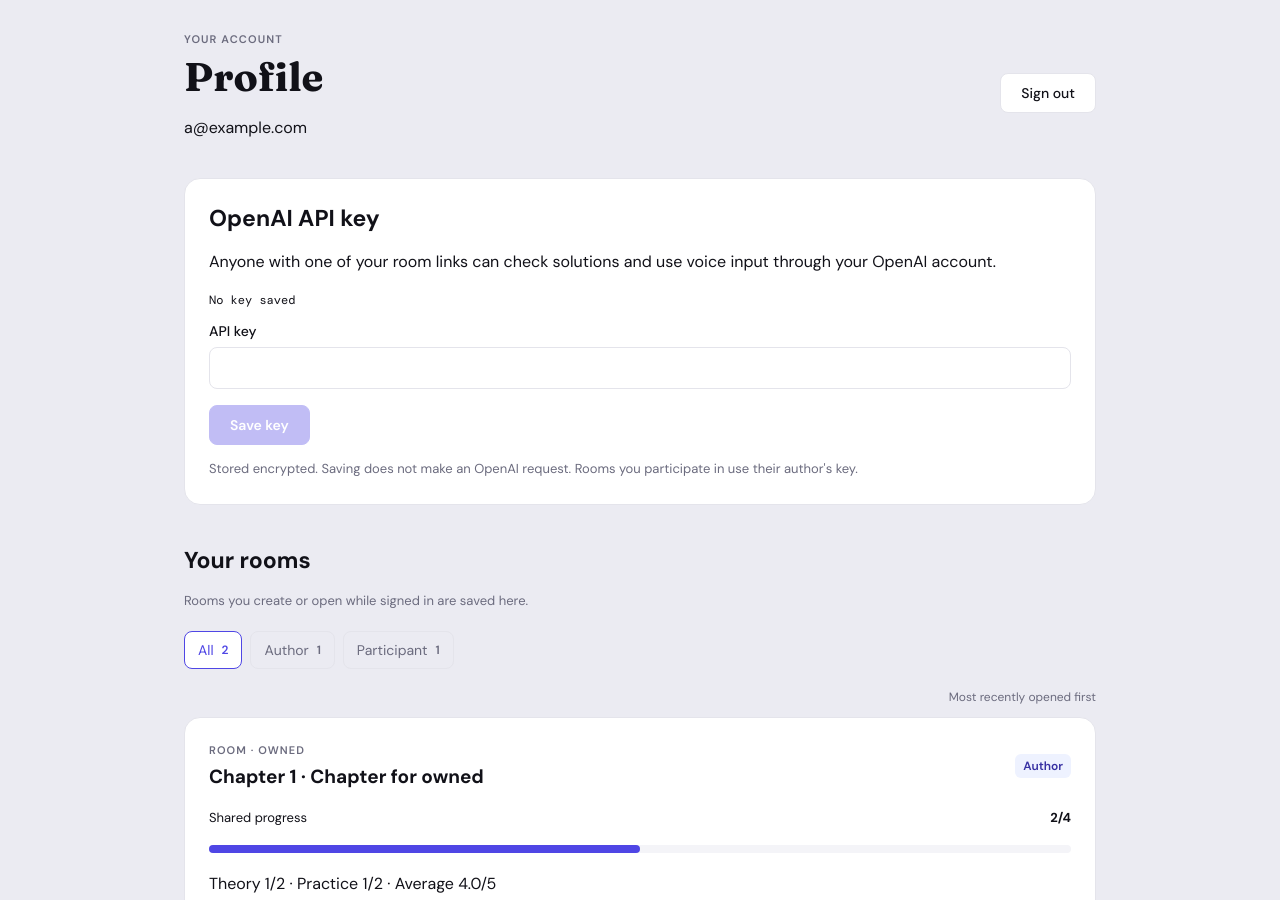
Test case: filters All, Author and Participant, showing deletion only for the author
The image size is (1280, 900).
Click the button "Participant 1": (398, 650) [343,631,454,669]
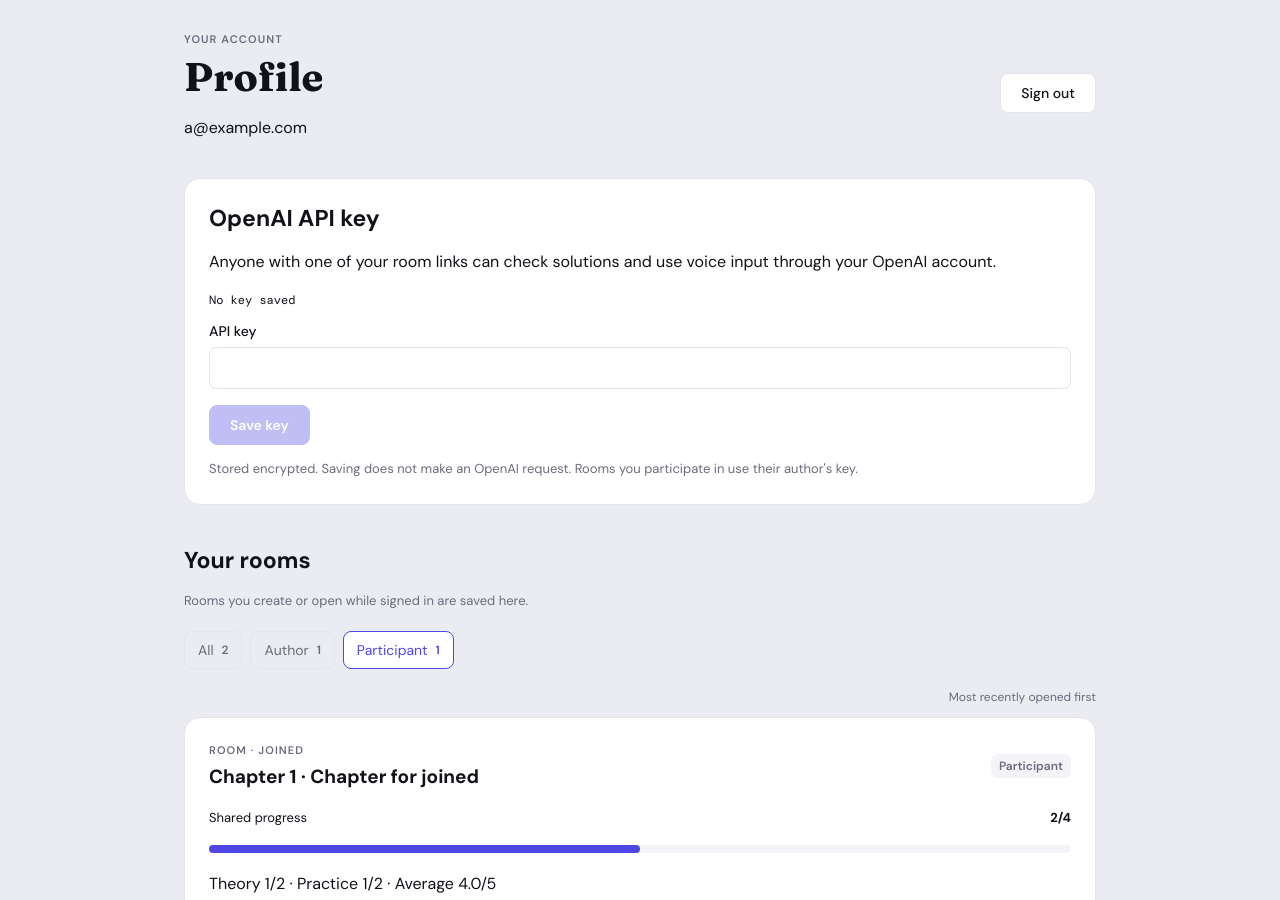
Expected: the heading "Chapter 1 · Chapter for joined" is shown, [209,764,479,789]
Expected: the heading "Chapter 1 · Chapter for owned" is gone
Click the button "Author 1": (293, 650) [250,631,335,669]
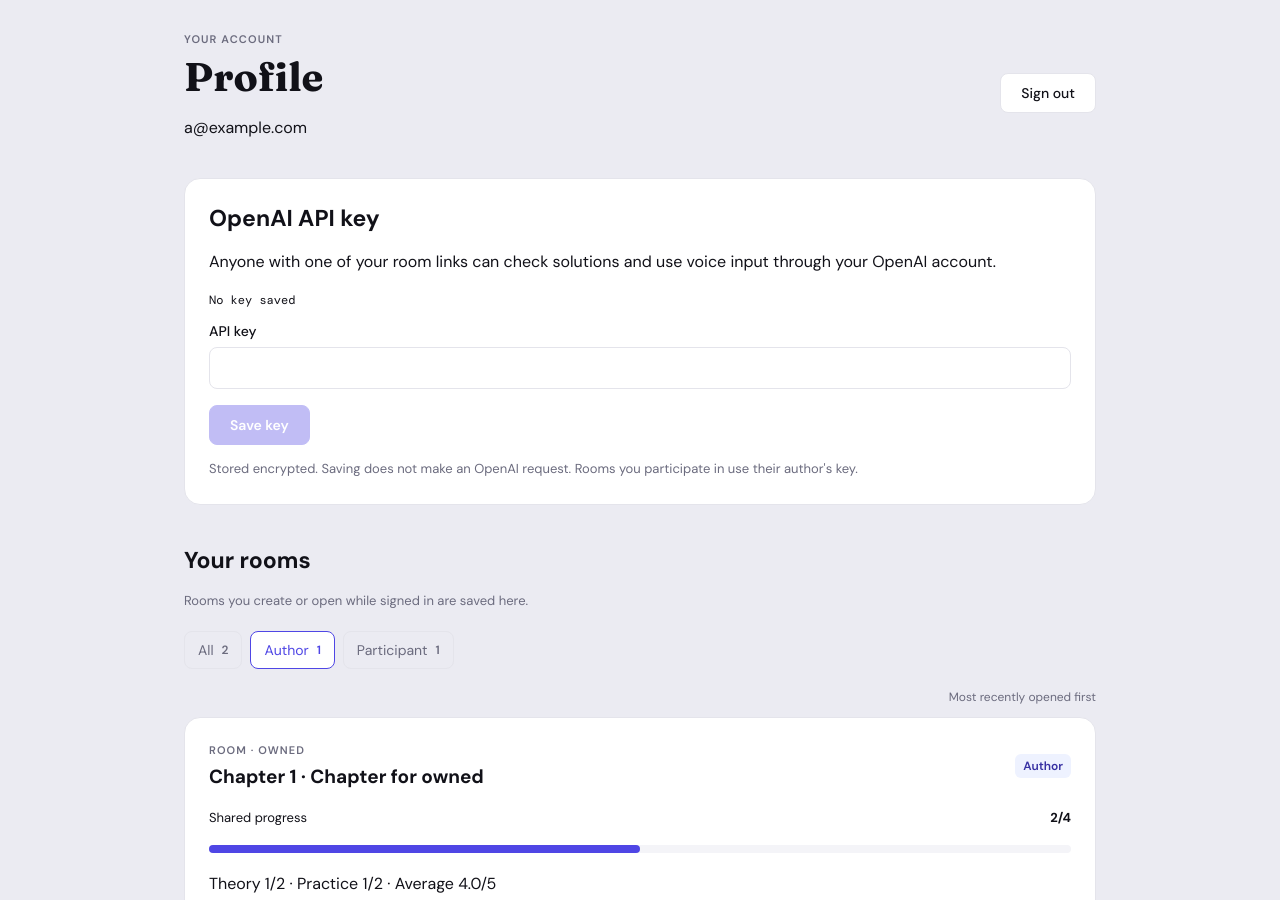
Expected: the heading "Chapter 1 · Chapter for owned" is shown, [209,764,484,789]
Expected: the heading "Chapter 1 · Chapter for joined" is gone
